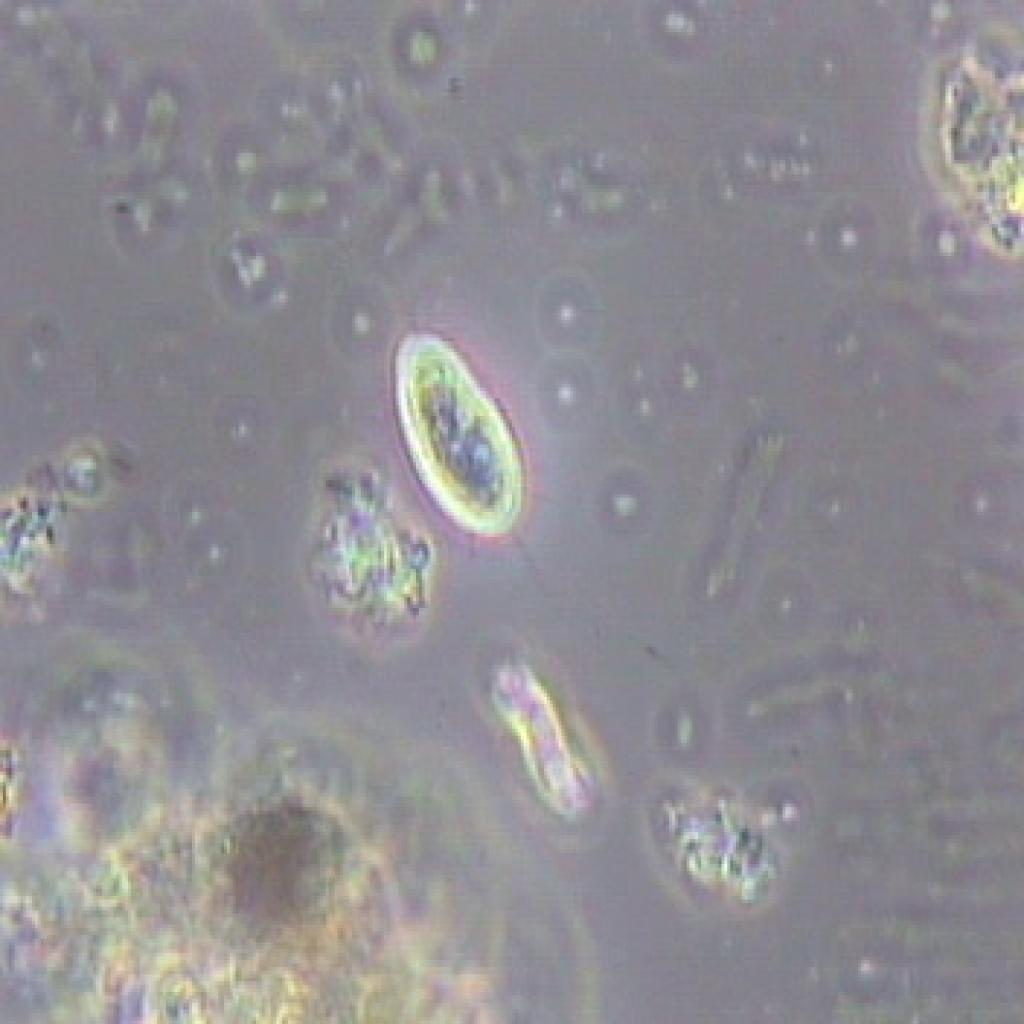Cyclidium: (368, 306, 598, 583)
